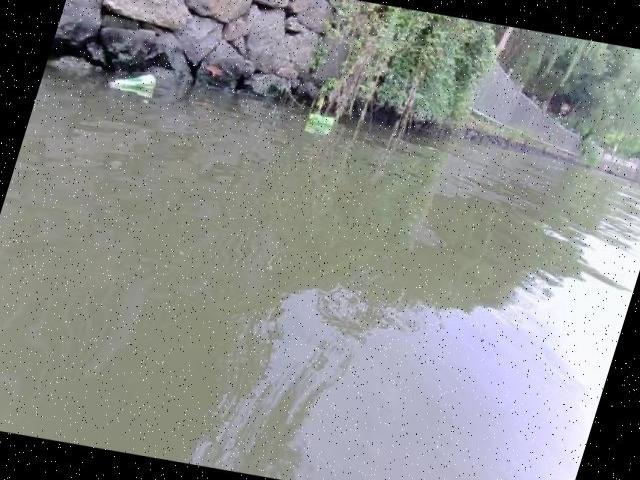Waste: (104, 66, 162, 102), (304, 109, 340, 136)
